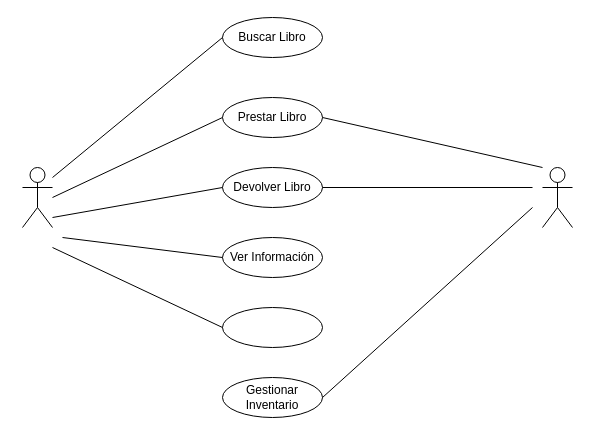
The diagram is 607 pixels wide and 435 high, and some of its shapes have lost their labels. The shapes that lost their labels are listed below. From the top down, each one's centre as x and y in pixels, then its label:
At (x=37, y=197): "Usuario".
At (x=557, y=197): "Bibliotecario".
At (x=272, y=327): "Ver Historial".
